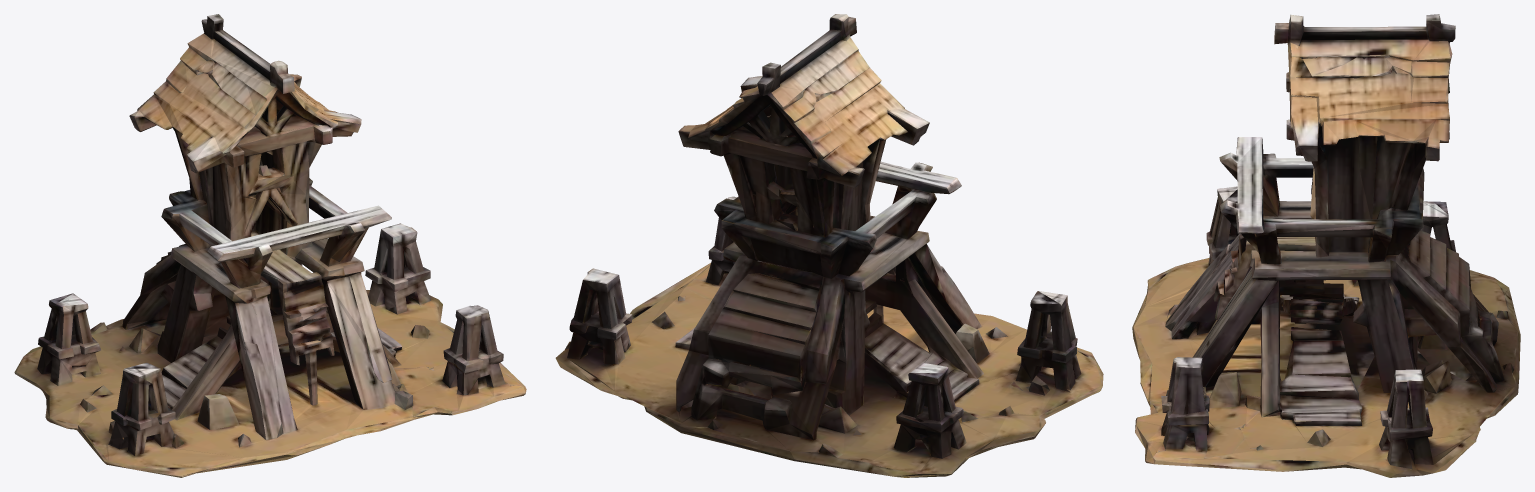
File: war_watchtower_wreck_01.glb
3 renders of one model, left to right at view 1: azimuth 30°, elevation 25°; view 2: azimuth 150°, elevation 25°; view 3: azimuth 270°, elevation 25°, orthographic. The views are drawn at different scales.
Parts seen in each view (by area): view 1: geometry_0; view 2: geometry_0; view 3: geometry_0.
Boxes of the visible parts, bbox=[...] form: geometry_0: bbox=[14, 14, 526, 477]; geometry_0: bbox=[555, 14, 1103, 477]; geometry_0: bbox=[1132, 14, 1520, 477].
Bounding box in the file's own units: 1 × 0.7494 × 0.7439.
Materials: 1 (1 with a texture image).
